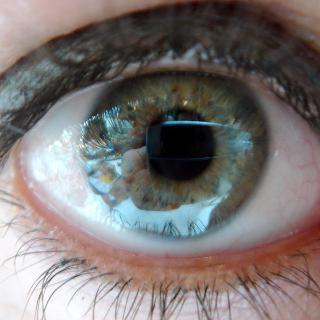iris: (80, 51, 268, 239)
